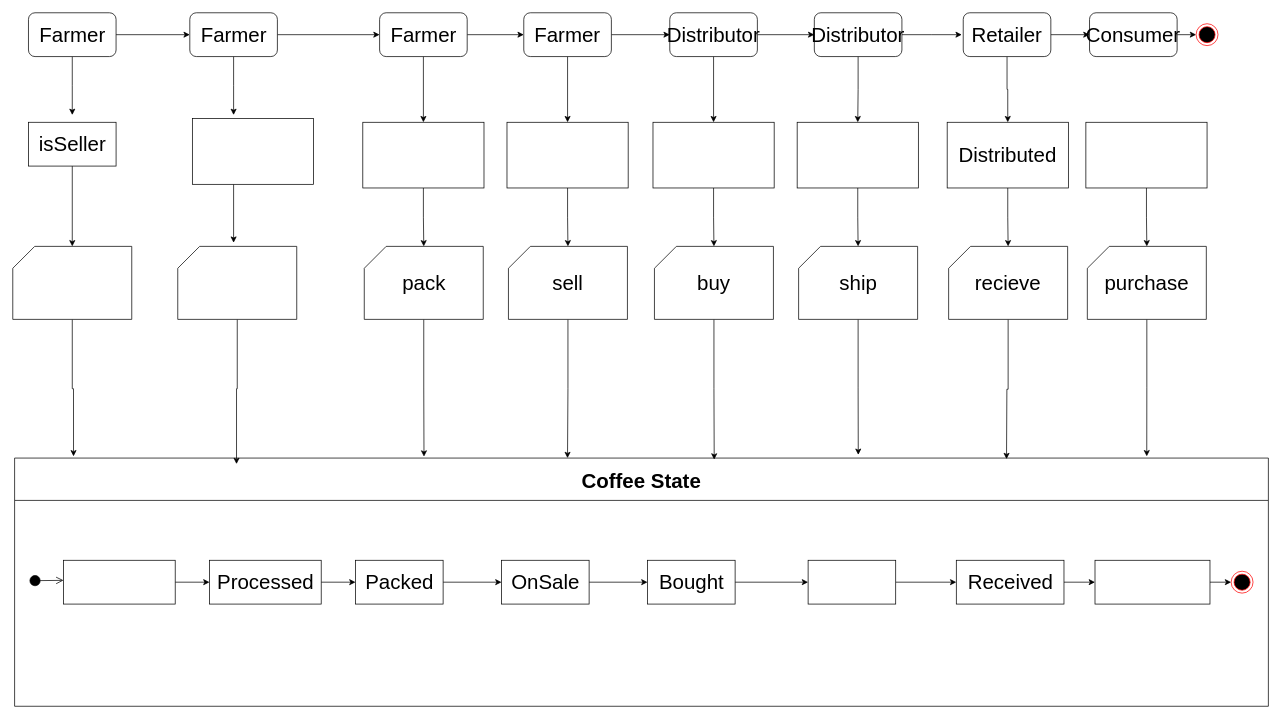
Some shapes in this 1281 by 719 pixel diagram are drawn without their labels. The centre of each missing label's shape, as x and y in pixels:
harvest: the point at 72,282
Harvested: the point at 119,582
isBuyer, Bought: the point at 567,155
isBuyer, OnSale: the point at 423,155
isBuyer, Processed: the point at 857,155
isBuyer, Shipped: the point at 713,155
isPurchaser, Received: the point at 1146,155
isSeller, isHarvested: the point at 253,151
process: the point at 237,282
Purchased: the point at 1152,582
Shipped: the point at 851,582
